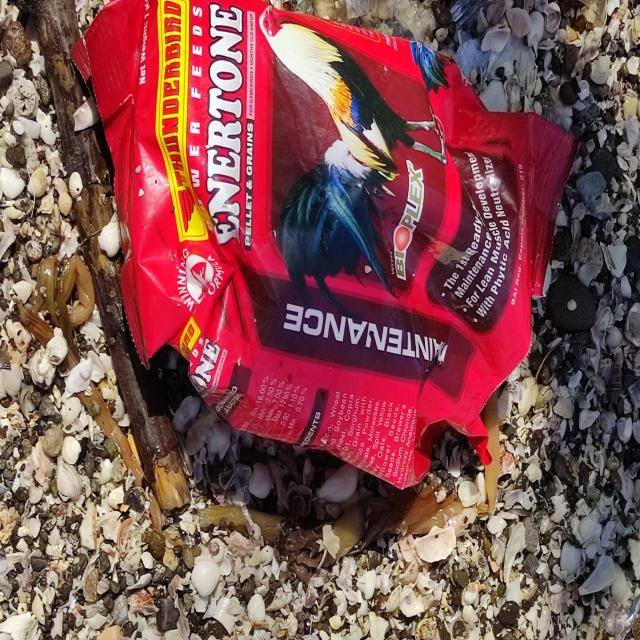litter: (84, 2, 562, 502)
